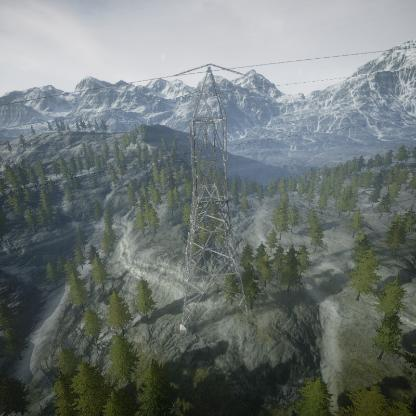tower: (174, 61, 251, 332)
